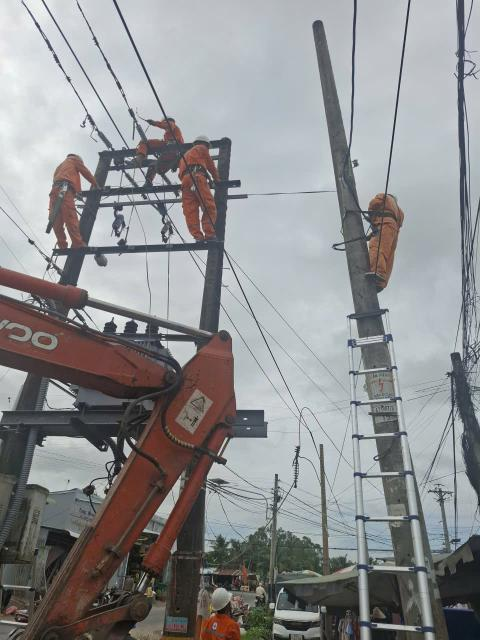gloves: (93, 184, 103, 192), (146, 118, 157, 125)
harness: (52, 176, 83, 193), (179, 166, 215, 176)
helmet: (62, 151, 92, 167), (193, 129, 214, 150), (157, 111, 178, 124)
shoes: (204, 235, 230, 246), (124, 158, 144, 170), (194, 236, 209, 247)
